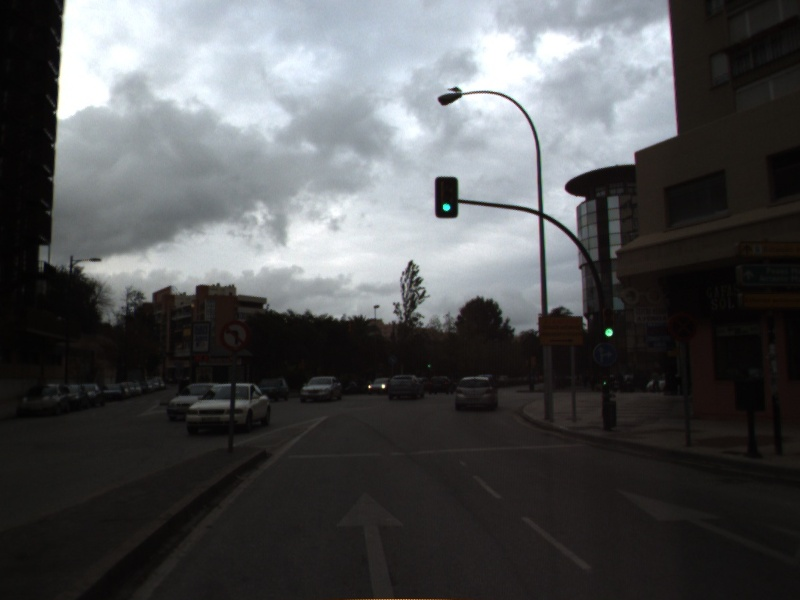STRAIGHT: (611, 484, 800, 570), (332, 487, 408, 600)
